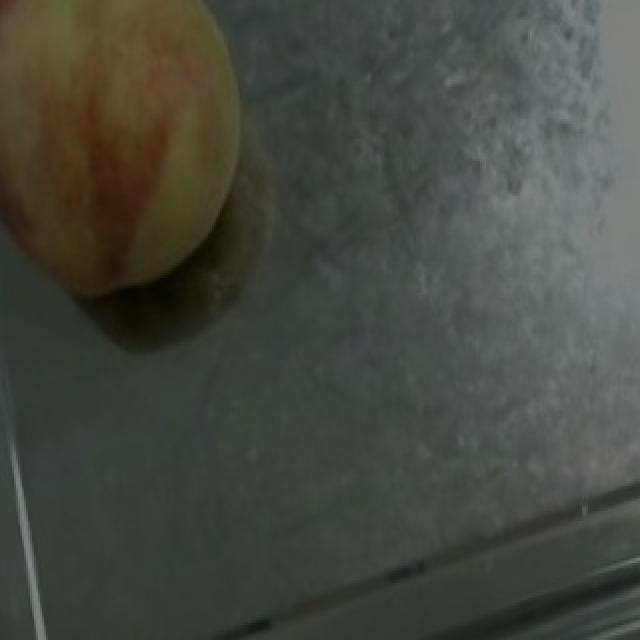Fruit: (0, 0, 294, 337)
